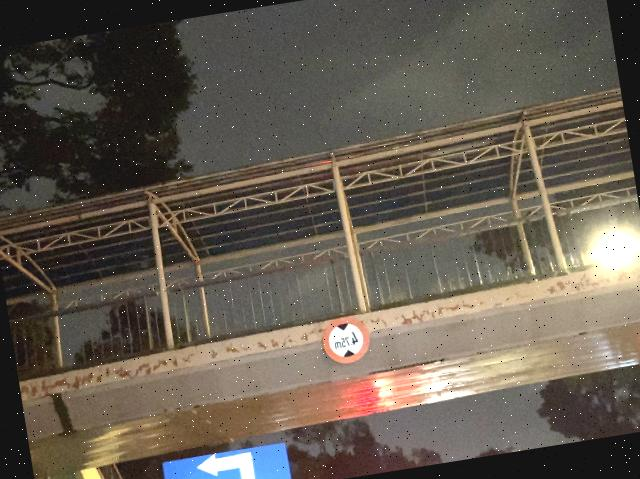han-che-chieu-cao: (318, 313, 373, 369)
